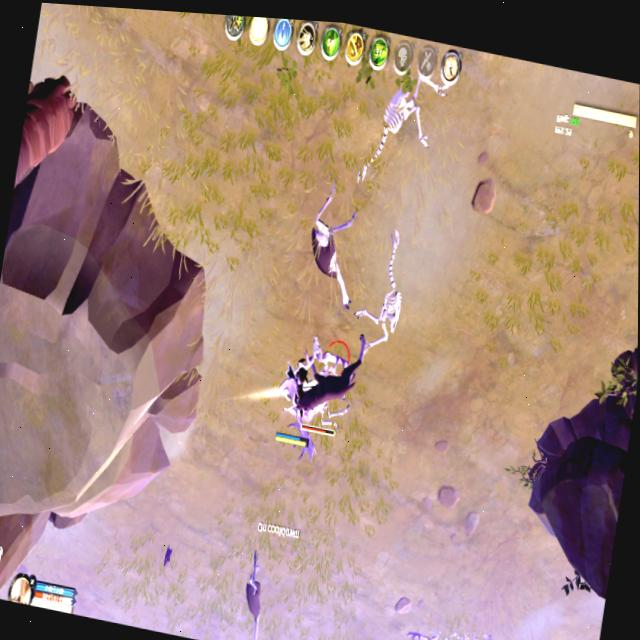mob: (296, 189, 368, 315)
ore: (279, 320, 370, 457), (234, 547, 274, 640)
red: (270, 350, 321, 455)
